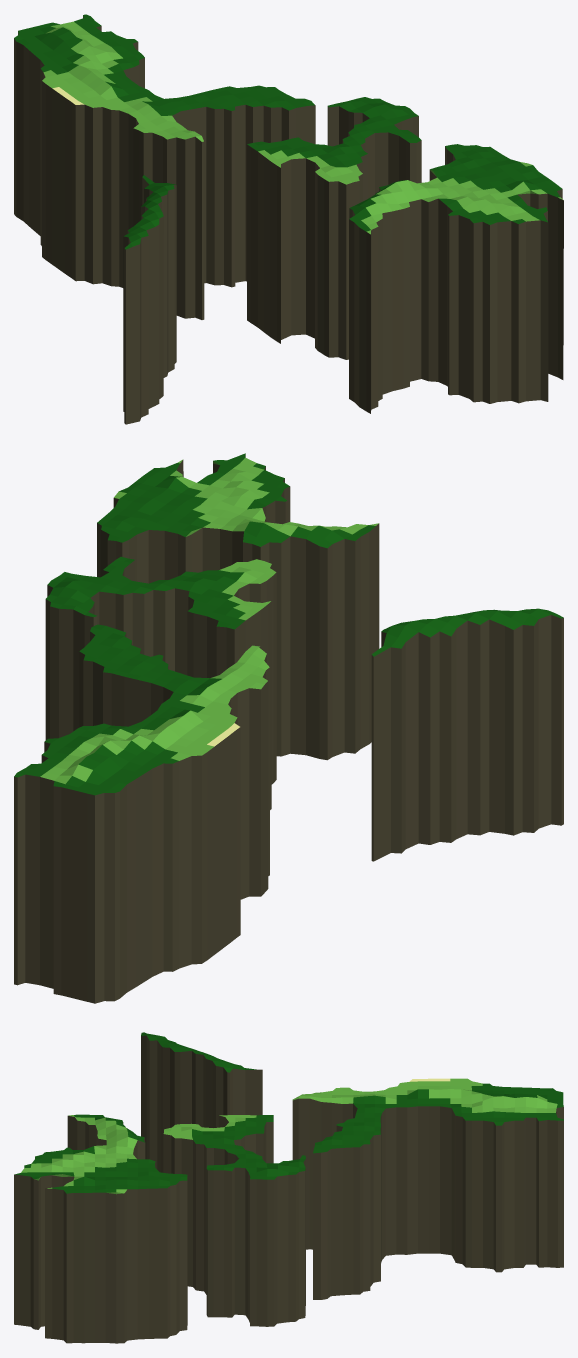
File: world_map_phillippines.fbx
The picture shows the model from 3 angles, top to bottom: view 1: azimuth 30°, elevation 25°; view 2: azimuth 150°, elevation 25°; view 3: azimuth 270°, elevation 25°; orthographic projection. The views are drawn at different scales.
Parts seen in each view (by area): view 1: philippines; view 2: philippines; view 3: philippines.
Part boxes in pixels (x1,y1,x2,y2): philippines: (14, 14, 563, 424); philippines: (14, 453, 563, 1003); philippines: (14, 1032, 563, 1343).
Size of the model in its own units: 110 by 51.03 by 160.
